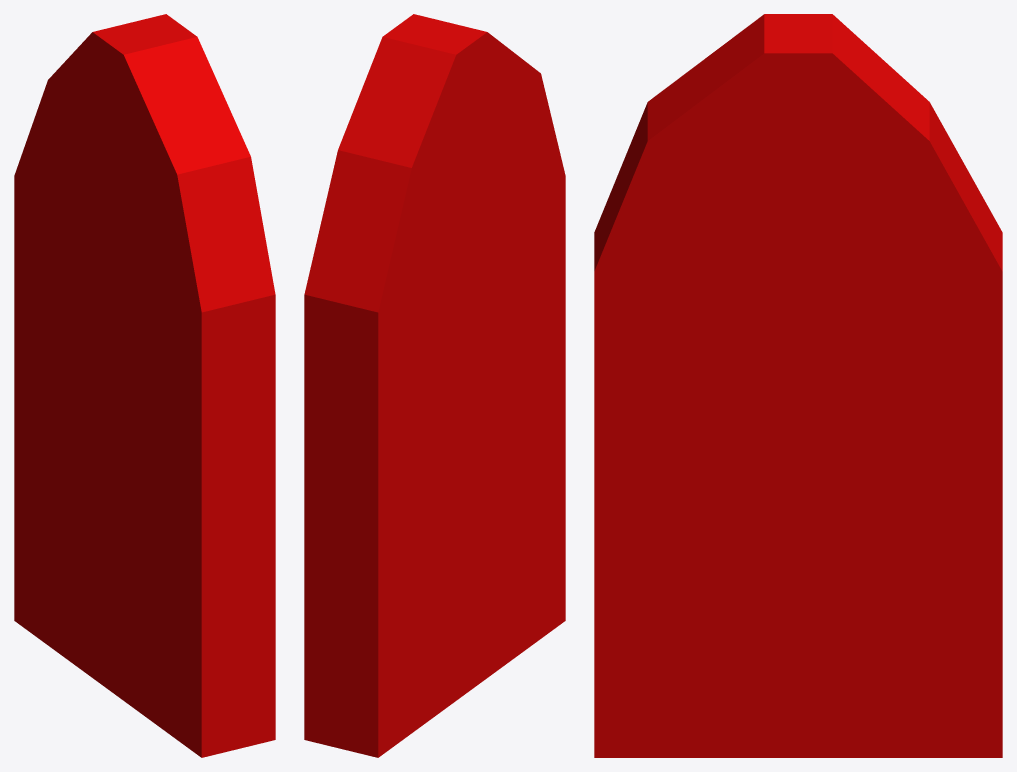
The model's file is Door02Collider.fbx.
3 views of the same model, side by side, from view 1: azimuth 30°, elevation 25°; view 2: azimuth 150°, elevation 25°; view 3: azimuth 270°, elevation 25° (orthographic). The views are drawn at different scales.
Visible parts, largest first — view 1: Door02Collision; view 2: Door02Collision; view 3: Door02Collision.
Boxes of the visible parts, x1,y1,x2,y2 form: Door02Collision: (14,14,275,757); Door02Collision: (304,14,565,757); Door02Collision: (594,14,1002,757).
Bounding box in the file's own units: 26.29 × 220 × 116.
